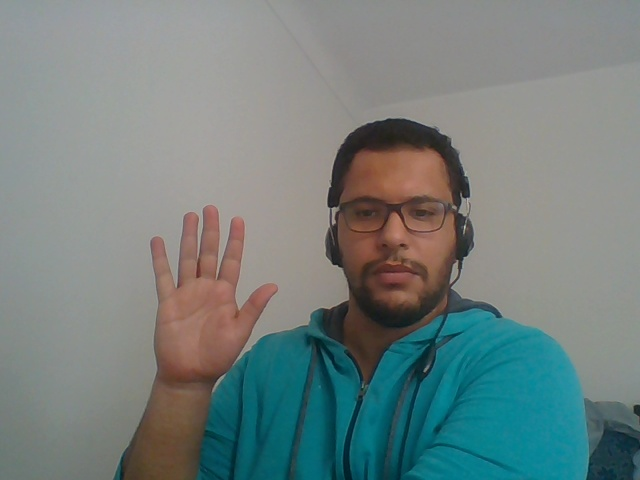hello: (119, 185, 311, 437)
